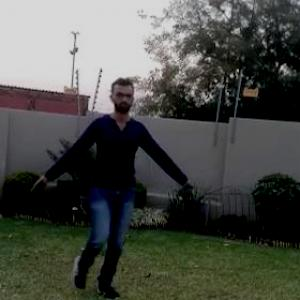land: (42, 93, 168, 267)
